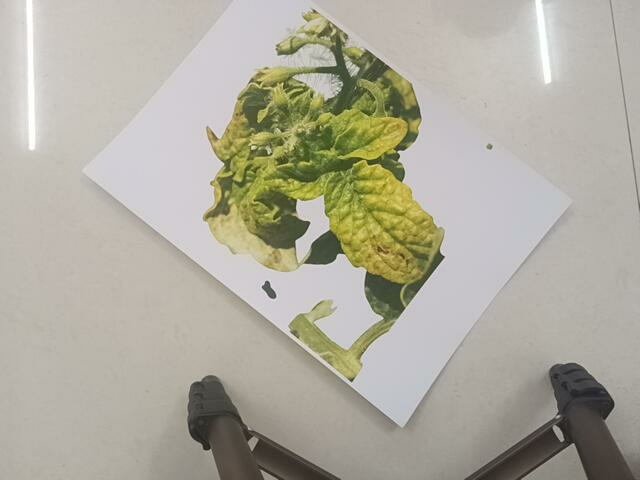Tomamto_Leaf_curl_virus: (204, 34, 445, 349)
